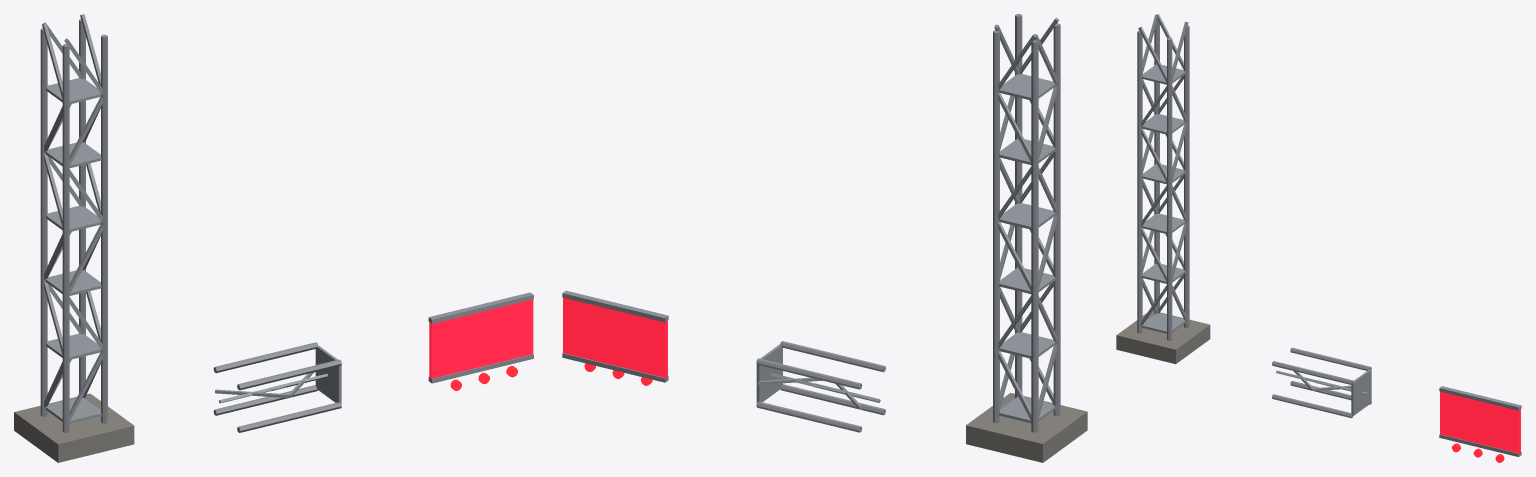
Rendered from gantry.glb.
3 views of the same model, side by side, from view 1: azimuth 30°, elevation 25°; view 2: azimuth 150°, elevation 25°; view 3: azimuth 330°, elevation 25° (orthographic). The views are drawn at different scales.
Parts seen in each view (by area): view 1: tower_steel, board_face, beam_steel, tower_base, board_steel; view 2: tower_steel, board_face, beam_steel, tower_base, board_steel; view 3: tower_steel, board_face, beam_steel, tower_base, board_steel.
Part boxes in pixels (x1,y1,x2,y2): tower_steel: (40,14,107,432); board_face: (429,299,533,378); beam_steel: (213,342,341,432); tower_base: (14,393,134,462); board_steel: (428,292,533,383); tower_steel: (993,14,1060,432); board_face: (563,297,667,377); beam_steel: (756,341,885,432); tower_base: (966,393,1087,462); board_steel: (562,290,668,382); tower_steel: (1137,14,1189,340); board_face: (1440,391,1520,453); beam_steel: (1272,347,1371,418); tower_base: (1116,310,1210,364); board_steel: (1439,386,1521,456).
Bounding box in the file's own units: 9.75 × 8.53 × 1.5.
